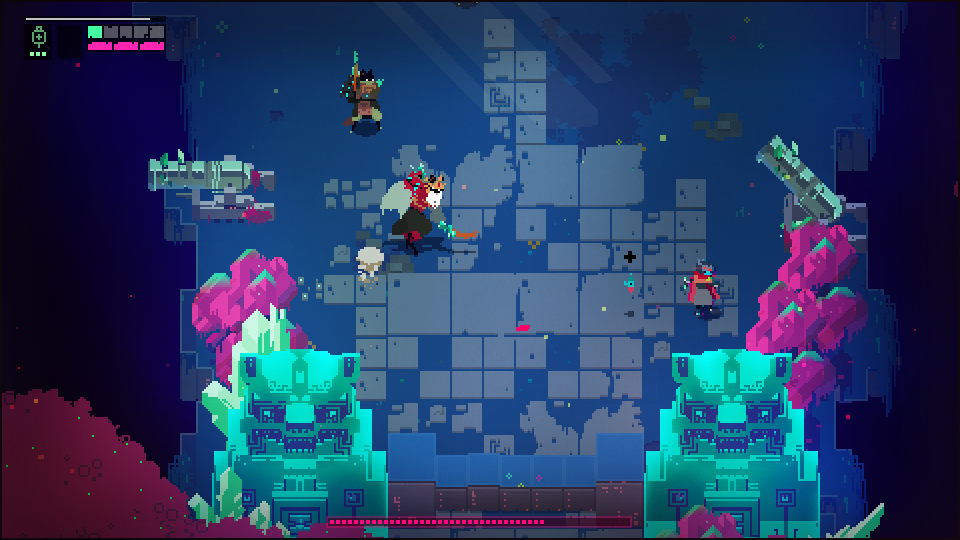hanged_man: (376, 166, 472, 253)
player: (679, 260, 723, 317)
